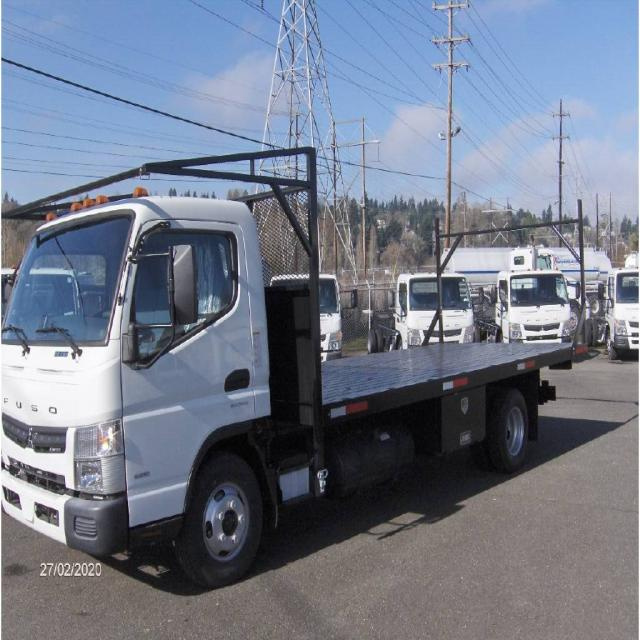truck: (0, 142, 556, 580)
